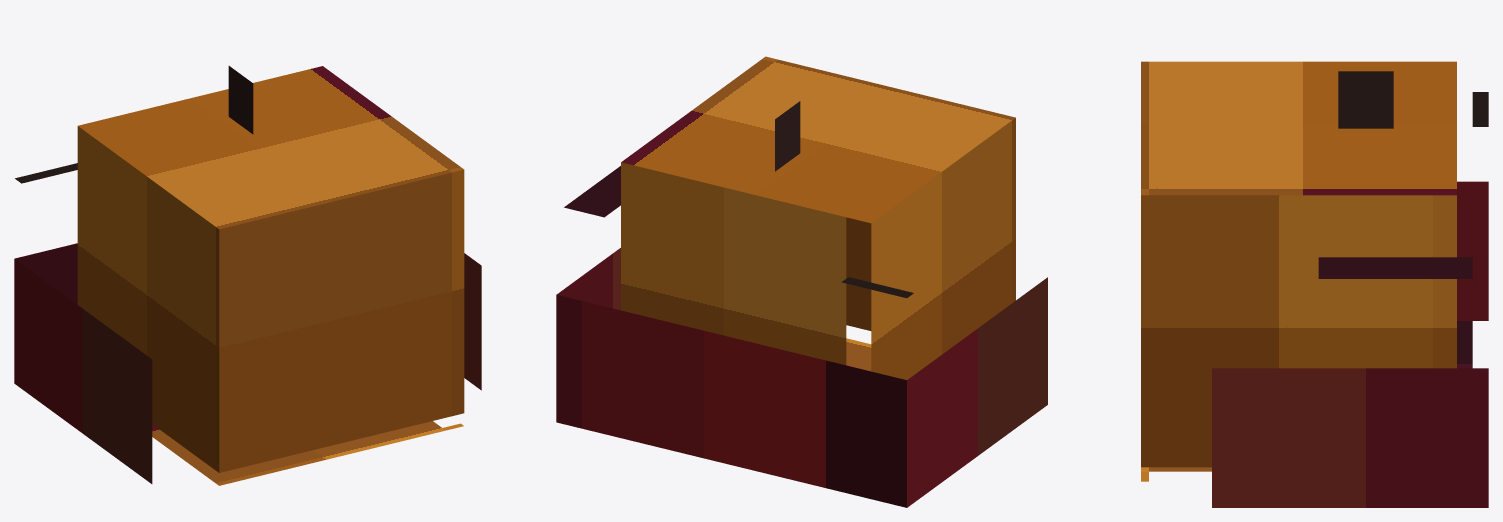
Rendered from sl_jack_o_lantern_suit__head.glb.
3 renders of one model, left to right at view 1: azimuth 30°, elevation 25°; view 2: azimuth 150°, elevation 25°; view 3: azimuth 270°, elevation 25°, orthographic. The views are drawn at different scales.
Visible parts, largest first — view 1: bb_jack_o_lantern_suit; view 2: bb_jack_o_lantern_suit; view 3: bb_jack_o_lantern_suit.
Boxes of the visible parts, box(x1,y1,x2,y2) form: bb_jack_o_lantern_suit: box(14, 66, 481, 485); bb_jack_o_lantern_suit: box(556, 56, 1047, 507); bb_jack_o_lantern_suit: box(1141, 61, 1488, 507).
Bounding box in the file's own units: 0.875 × 0.875 × 0.75.
1 material, 1 textured.
